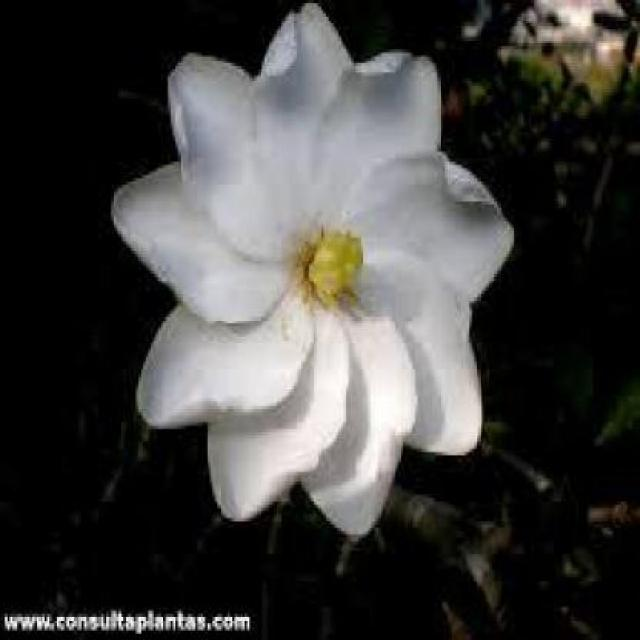flower: (93, 8, 519, 526)
